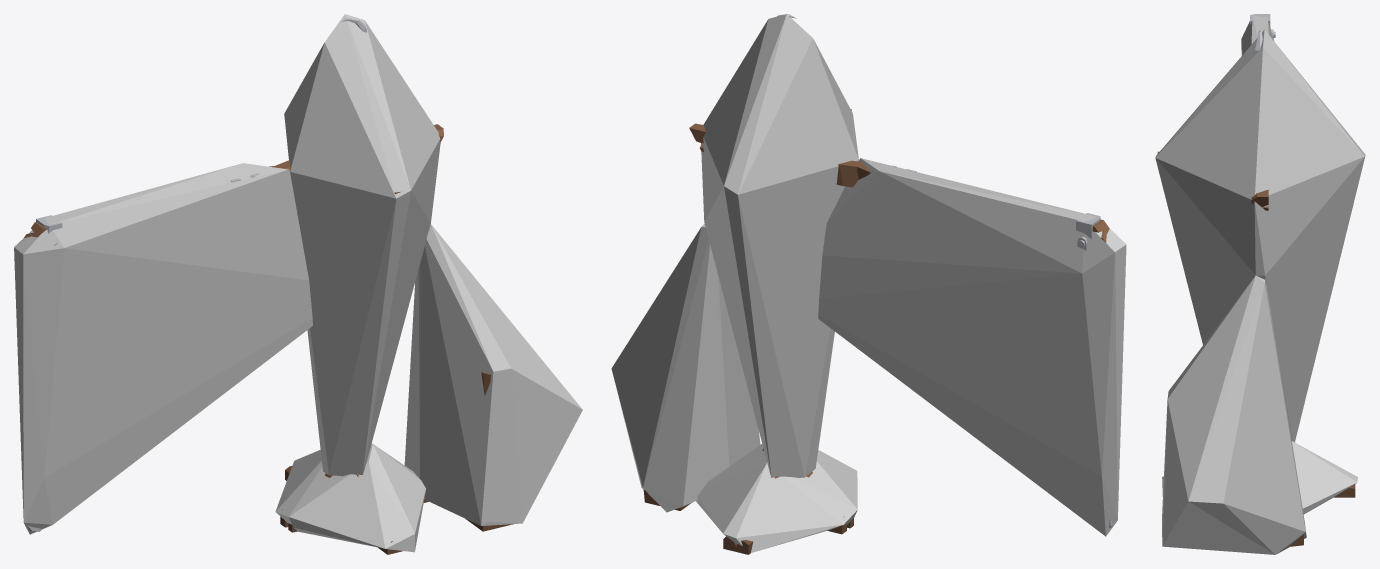
The model's file is SM_Bld_Crane_01.fbx.
3 renders of one model, left to right at view 1: azimuth 30°, elevation 25°; view 2: azimuth 150°, elevation 25°; view 3: azimuth 270°, elevation 25°, orthographic. The views are drawn at different scales.
Visible parts, largest first — view 1: SM_Bld_Crane_01_ConvexHulls, SM_Bld_Crane_01; view 2: SM_Bld_Crane_01_ConvexHulls, SM_Bld_Crane_01; view 3: SM_Bld_Crane_01_ConvexHulls, SM_Bld_Crane_01.
Boxes of the visible parts, bbox=[...] form: SM_Bld_Crane_01_ConvexHulls: bbox=[14, 14, 582, 552]; SM_Bld_Crane_01: bbox=[24, 17, 513, 554]; SM_Bld_Crane_01_ConvexHulls: bbox=[611, 14, 1126, 552]; SM_Bld_Crane_01: bbox=[643, 14, 1112, 554]; SM_Bld_Crane_01_ConvexHulls: bbox=[1155, 15, 1365, 554]; SM_Bld_Crane_01: bbox=[1157, 14, 1355, 546].
Size of the model in its own units: 544 by 203 by 496.
Materials: 2 (1 with a texture image).
